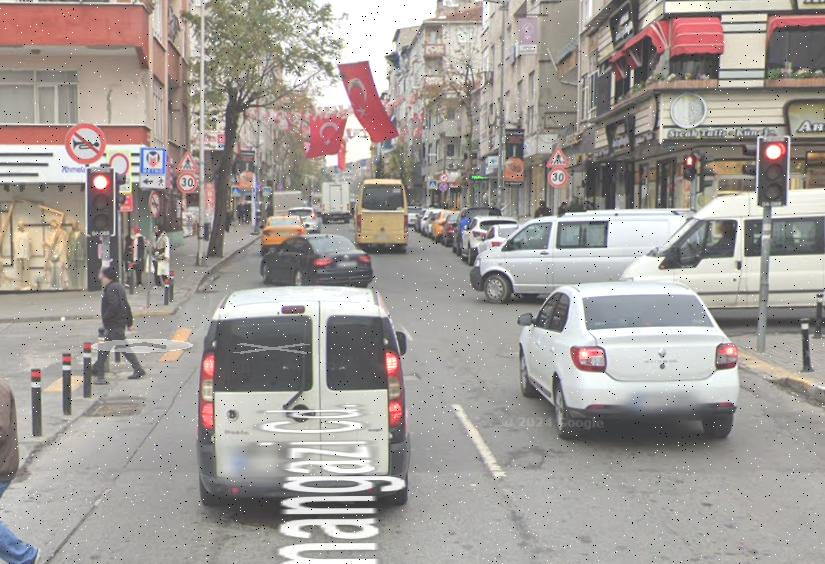redlight: (84, 165, 115, 237), (758, 138, 789, 208)
